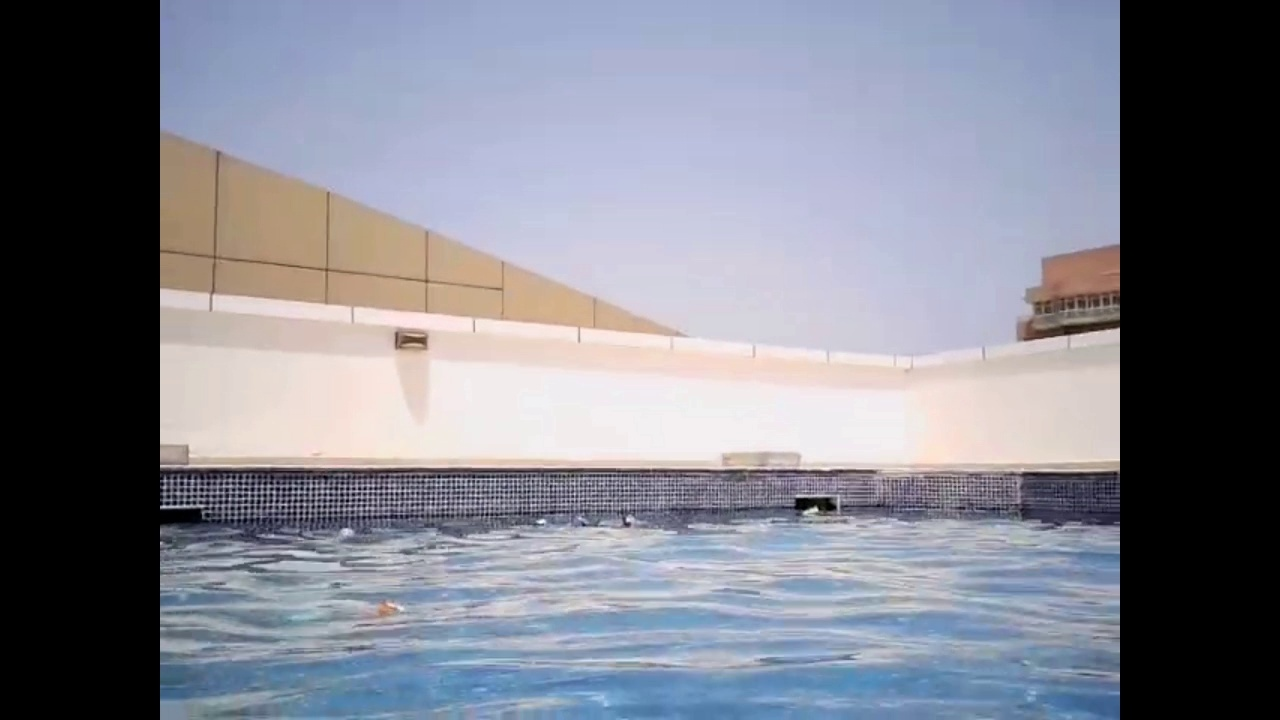debris: (369, 598, 404, 626), (572, 512, 602, 529), (618, 509, 638, 530), (331, 527, 355, 543), (529, 517, 547, 530), (799, 507, 821, 516)
